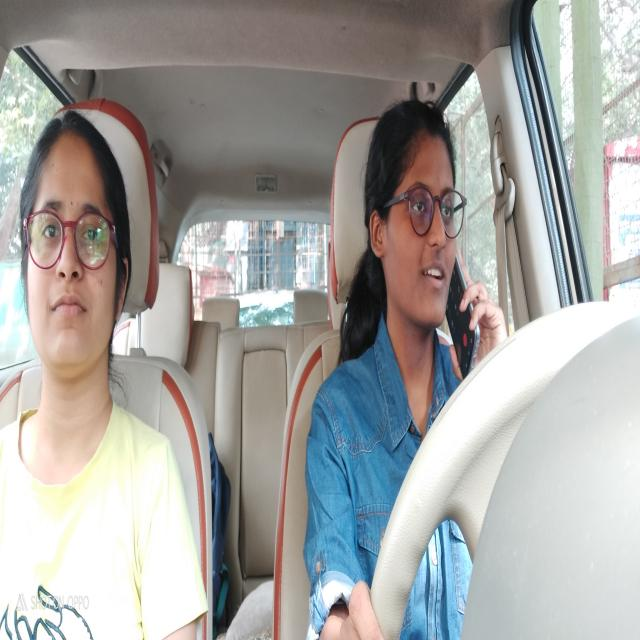mobile: (446, 244, 482, 375)
person: (346, 76, 491, 384), (15, 92, 139, 436)
